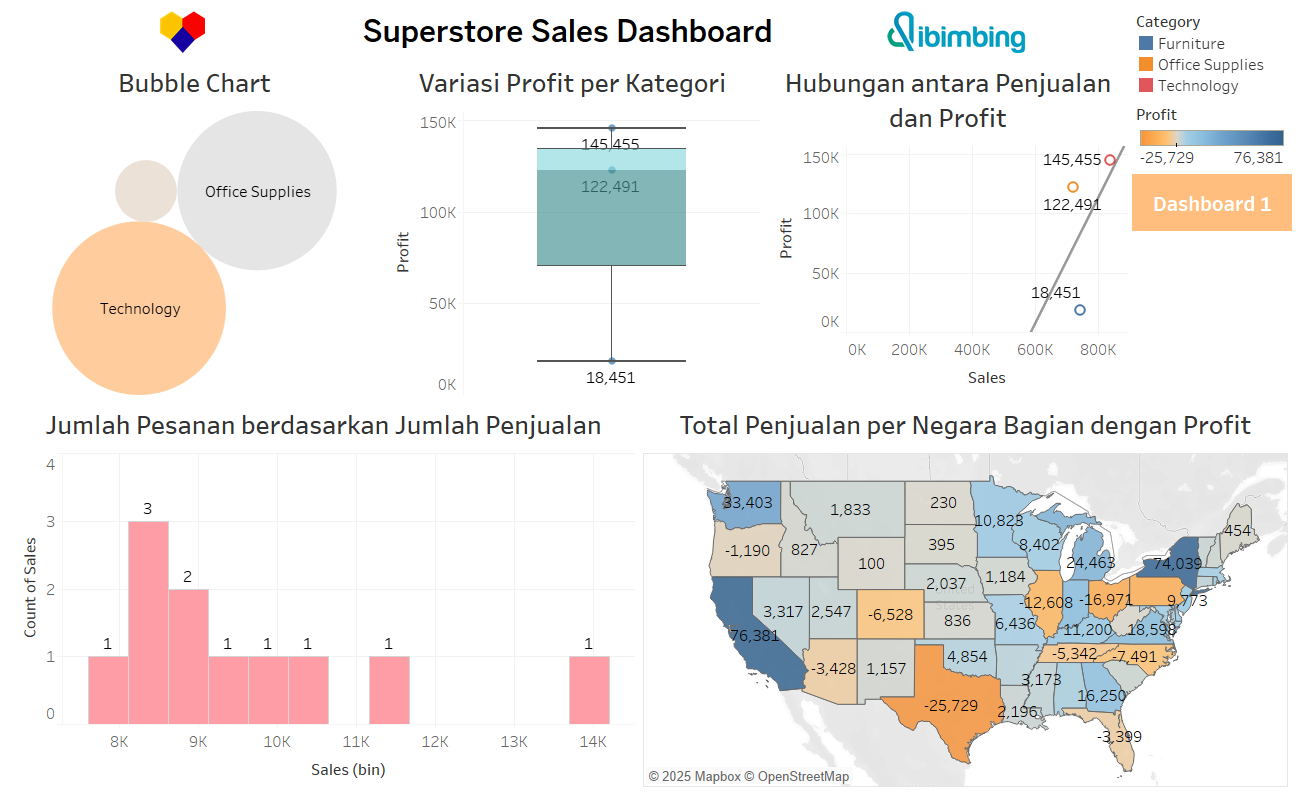

What the dashboard file says about the page in this screenshot:
{"tool":"tableau","page":{"name":"Dashboard 2","canvas":[1300,800],"ordinal":1},"visuals":[{"type":"image","param":"Image/Polygon 1.png","box":[8,8,347,50]},{"type":"text","box":[355,8,425,50]},{"type":"image","param":"Image/logo-dibimbing.original.jpg","box":[780,8,352,50]},{"type":"legend","title":"Scatter Plot dengan Trend Line","param":"[federated.1w0gi35071jwla1bxj45n1uhsry2].[none:Category:nk]","box":[1132,8,160,93]},{"type":"worksheet","title":"Bubble Chart","mark":"Circle","box":[8,58,373,342]},{"type":"worksheet","title":"Box Plot","mark":"Circle","rows":["Profit"],"box":[381,58,383,342]},{"type":"worksheet","title":"Scatter Plot dengan Trend Line","mark":"Automatic","rows":["Profit"],"cols":["Sales"],"box":[764,58,368,342]},{"type":"legend","title":"Profit-Filled Map","param":"[federated.1w0gi35071jwla1bxj45n1uhsry2].[sum:Profit:qk]","box":[1132,101,160,73]},{"type":"dashboard-object","box":[1132,175,160,57]},{"type":"worksheet","title":"Histogram","mark":"Automatic","rows":["Sales"],"cols":["Sales (bin)"],"box":[8,400,631,392]},{"type":"worksheet","title":"Profit-Filled Map","mark":"Automatic","box":[639,400,653,392]}]}

Visuals, with their boxes in screenshot pixels (x1, y1, x2, y2), scaled from the page's 1300x800 canvas onto the 1298x795 screenshot:
image: region(8, 8, 354, 58)
text: region(354, 8, 779, 58)
image: region(779, 8, 1130, 58)
"Scatter Plot dengan Trend Line" legend: region(1130, 8, 1290, 100)
"Bubble Chart" worksheet (Circle marks): region(8, 58, 380, 398)
"Box Plot" worksheet (Circle marks): region(380, 58, 763, 398)
"Scatter Plot dengan Trend Line" worksheet: region(763, 58, 1130, 398)
"Profit-Filled Map" legend: region(1130, 100, 1290, 173)
dashboard-object: region(1130, 174, 1290, 231)
"Histogram" worksheet: region(8, 398, 638, 787)
"Profit-Filled Map" worksheet: region(638, 398, 1290, 787)
